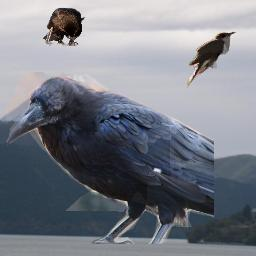Crow: (6, 72, 214, 244), (42, 7, 86, 46)
Cuckoo: (187, 31, 236, 89)
